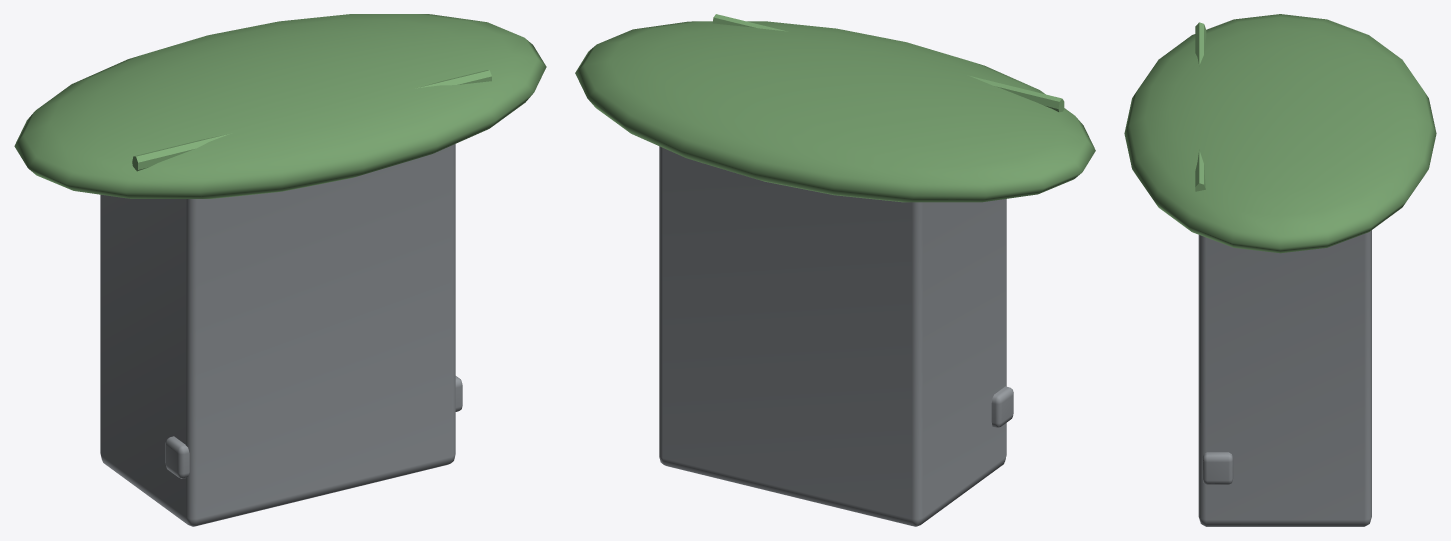
The model's file is cliff.glb.
3 renders of one model, left to right at view 1: azimuth 30°, elevation 25°; view 2: azimuth 150°, elevation 25°; view 3: azimuth 270°, elevation 25°, orthographic. The views are drawn at different scales.
Parts seen in each view (by area): view 1: cliff_root; view 2: cliff_root; view 3: cliff_root.
Boxes of the visible parts, x1,y1,x2,y2 form: cliff_root: (14, 14, 546, 526); cliff_root: (575, 14, 1095, 526); cliff_root: (1124, 14, 1436, 526).
Bounding box in the file's own units: 8 × 6 × 4.6.
